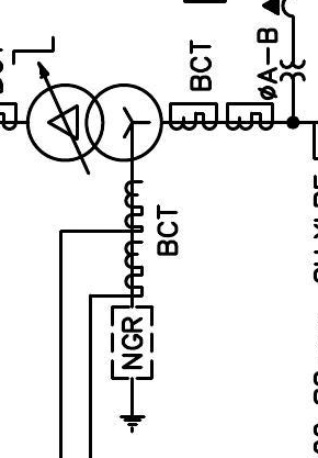11522_tx_dyn1: (26, 82, 164, 163)
NGR_future: (110, 305, 154, 434)
